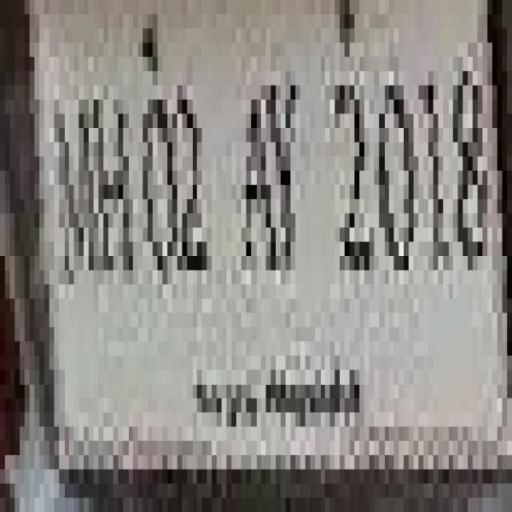number plate: (0, 14, 487, 384)
